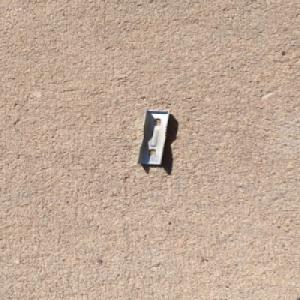ClampPart: (135, 107, 172, 165)
